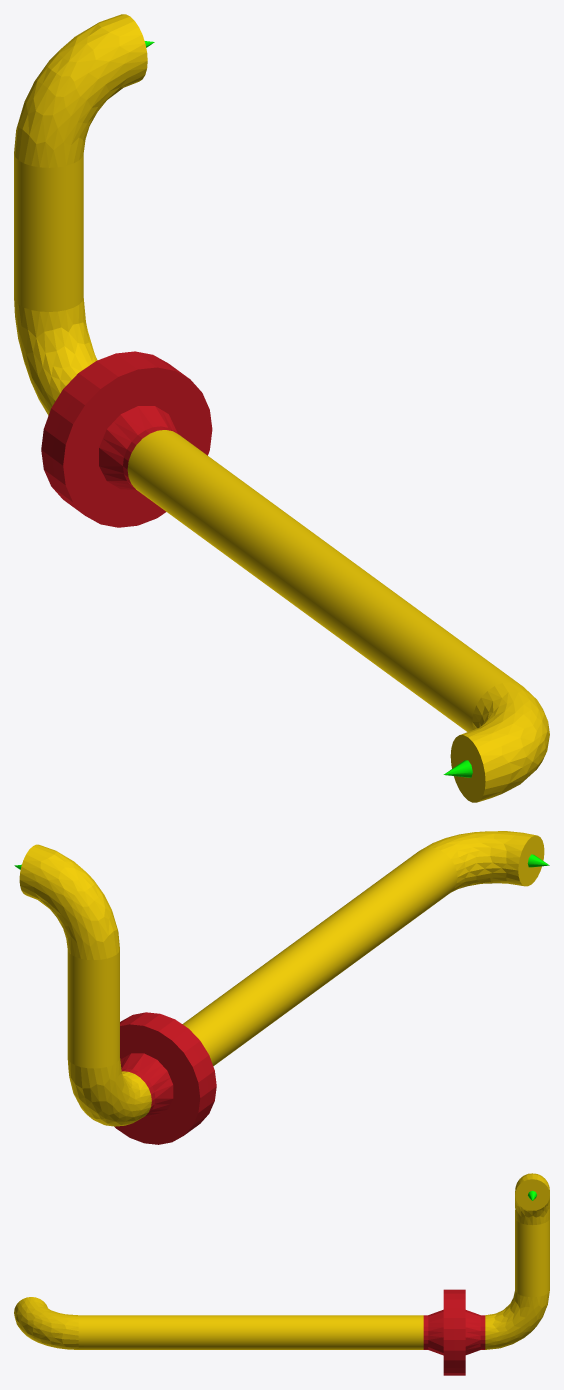
File: Phase43b.fbx
3 views of the same model, one above another, from view 1: azimuth 30°, elevation 25°; view 2: azimuth 150°, elevation 25°; view 3: azimuth 270°, elevation 25° (orthographic). The views are drawn at different scales.
Visible parts, largest first — view 1: Типы трубопроводов:CPS_Бесшовная труба из нс:1539481, Сталь нержавеющая Фланец (×2), Сталь нержавеющая (×2), Типы трубопроводов:CPS_Бесшовная труба из нс:1540227, Отвод:Исполнение 2 — 108:1539961; view 2: Типы трубопроводов:CPS_Бесшовная труба из нс:1539481, Сталь нержавеющая (×2), Сталь нержавеющая Фланец (×2), Типы трубопроводов:CPS_Бесшовная труба из нс:1540227, Отвод:Исполнение 2 — 108:1539961; view 3: Типы трубопроводов:CPS_Бесшовная труба из нс:1539481, Сталь нержавеющая (×2), Сталь нержавеющая Фланец (×2), Типы трубопроводов:CPS_Бесшовная труба из нс:1540227, Отвод:Исполнение 2 — 108:1539961.
Part boxes in pixels (bbox=[...]): Типы трубопроводов:CPS_Бесшовная труба из нс:1539481: bbox=[127, 430, 521, 731]; Сталь нержавеющая Фланец (×2): bbox=[41, 351, 212, 527]; Сталь нержавеющая (×2): bbox=[14, 14, 147, 415]; Типы трубопроводов:CPS_Бесшовная труба из нс:1540227: bbox=[14, 154, 83, 311]; Отвод:Исполнение 2 — 108:1539961: bbox=[450, 682, 549, 802]; Типы трубопроводов:CPS_Бесшовная труба из нс:1539481: bbox=[182, 847, 457, 1065]; Сталь нержавеющая (×2): bbox=[19, 844, 151, 1126]; Сталь нержавеющая Фланец (×2): bbox=[114, 1012, 216, 1144]; Типы трубопроводов:CPS_Бесшовная труба из нс:1540227: bbox=[67, 950, 119, 1068]; Отвод:Исполнение 2 — 108:1539961: bbox=[423, 831, 544, 892]; Типы трубопроводов:CPS_Бесшовная труба из нс:1539481: bbox=[78, 1315, 423, 1349]; Сталь нержавеющая (×2): bbox=[485, 1173, 549, 1349]; Сталь нержавеющая Фланец (×2): bbox=[423, 1289, 485, 1375]; Типы трубопроводов:CPS_Бесшовная труба из нс:1540227: bbox=[515, 1218, 549, 1297]; Отвод:Исполнение 2 — 108:1539961: bbox=[14, 1297, 78, 1349].
Bounding box in the file's own units: 313 × 1367 × 598.
